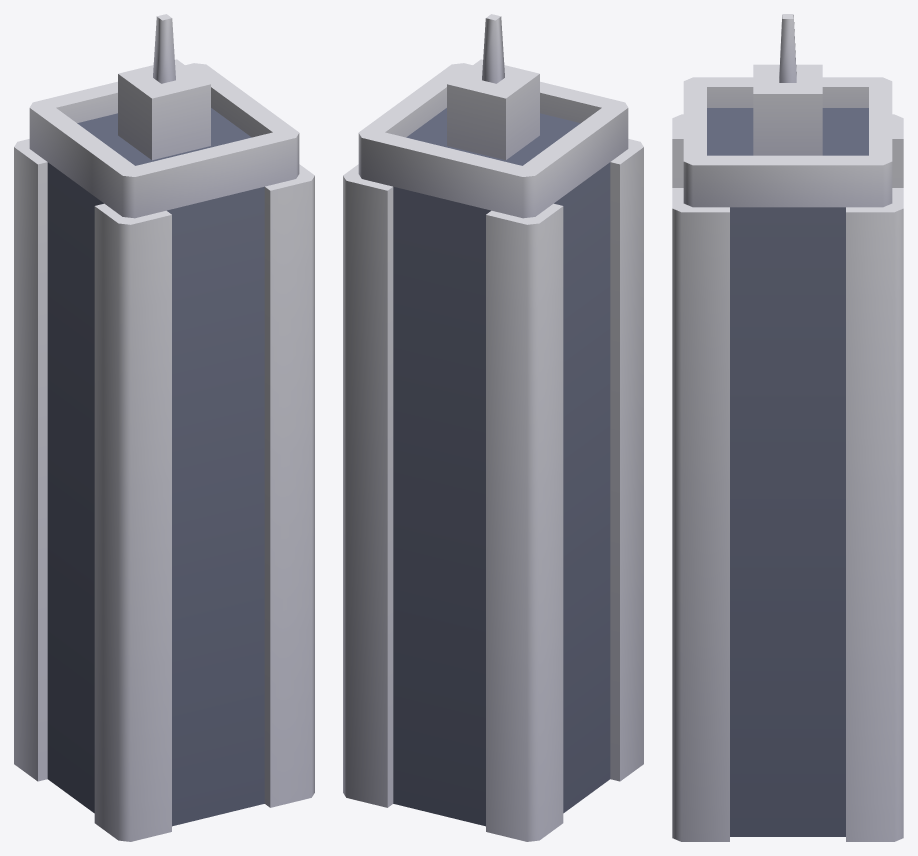
The model's file is low-detail-building-l.glb.
3 renders of one model, left to right at view 1: azimuth 30°, elevation 25°; view 2: azimuth 150°, elevation 25°; view 3: azimuth 270°, elevation 25°, orthographic. The views are drawn at different scales.
Visible parts, largest first — view 1: low-detail-building-l; view 2: low-detail-building-l; view 3: low-detail-building-l.
Part boxes in pixels (x1,y1,x2,y2): low-detail-building-l: (14,14,314,841); low-detail-building-l: (343,14,643,841); low-detail-building-l: (672,14,903,841).
Size of the model in its own units: 0.5 by 1.85 by 0.5.
Materials: 1 (1 with a texture image).
